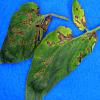Tomato leaf bacterial spot: (23, 22, 99, 99), (0, 1, 50, 66), (70, 0, 89, 31)
